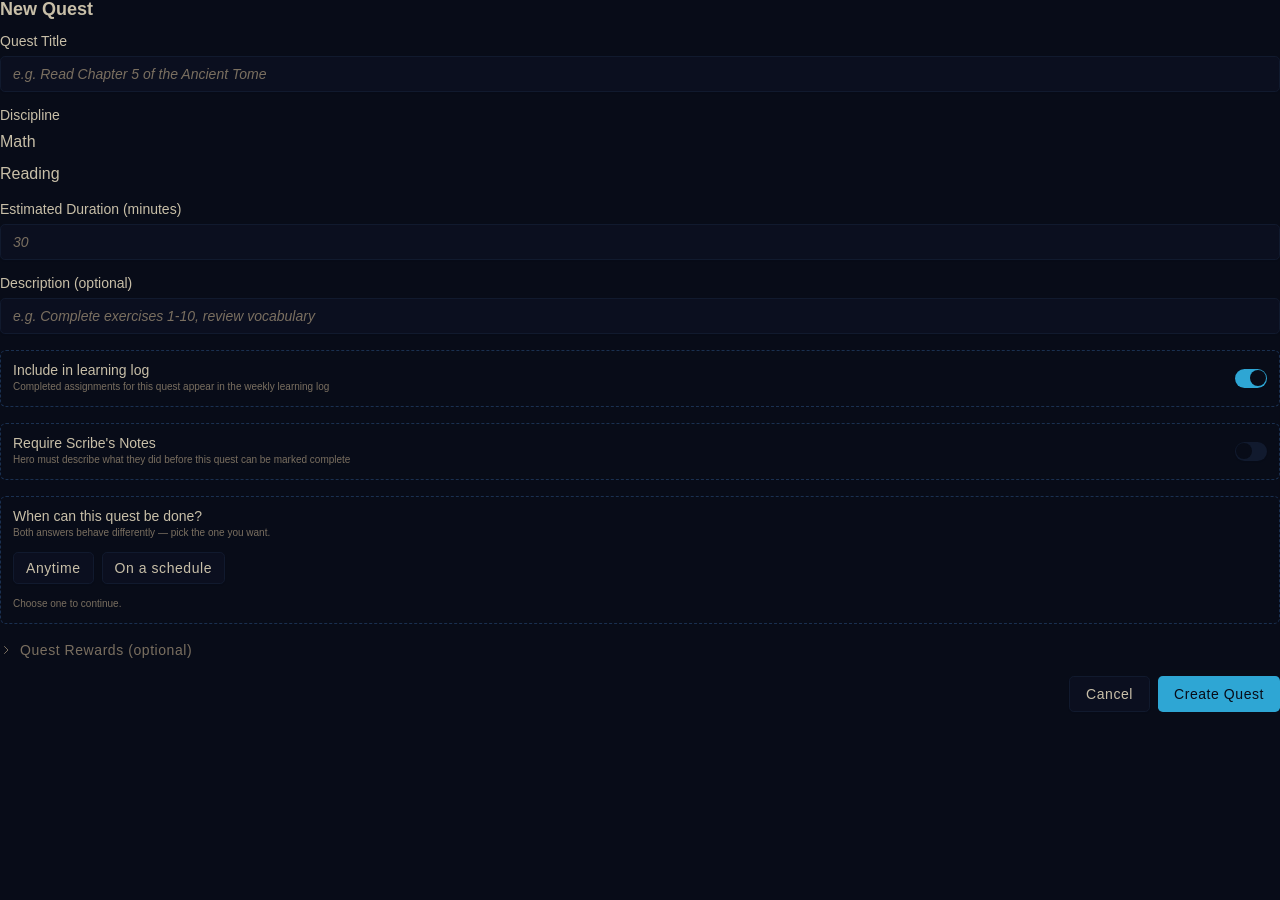
QuestTemplateForm › shows Once, Daily, Weekly, and Monthly frequency options with an interval input for Weekly
Click the button "On a schedule" at (163,568), box [102, 552, 225, 584]
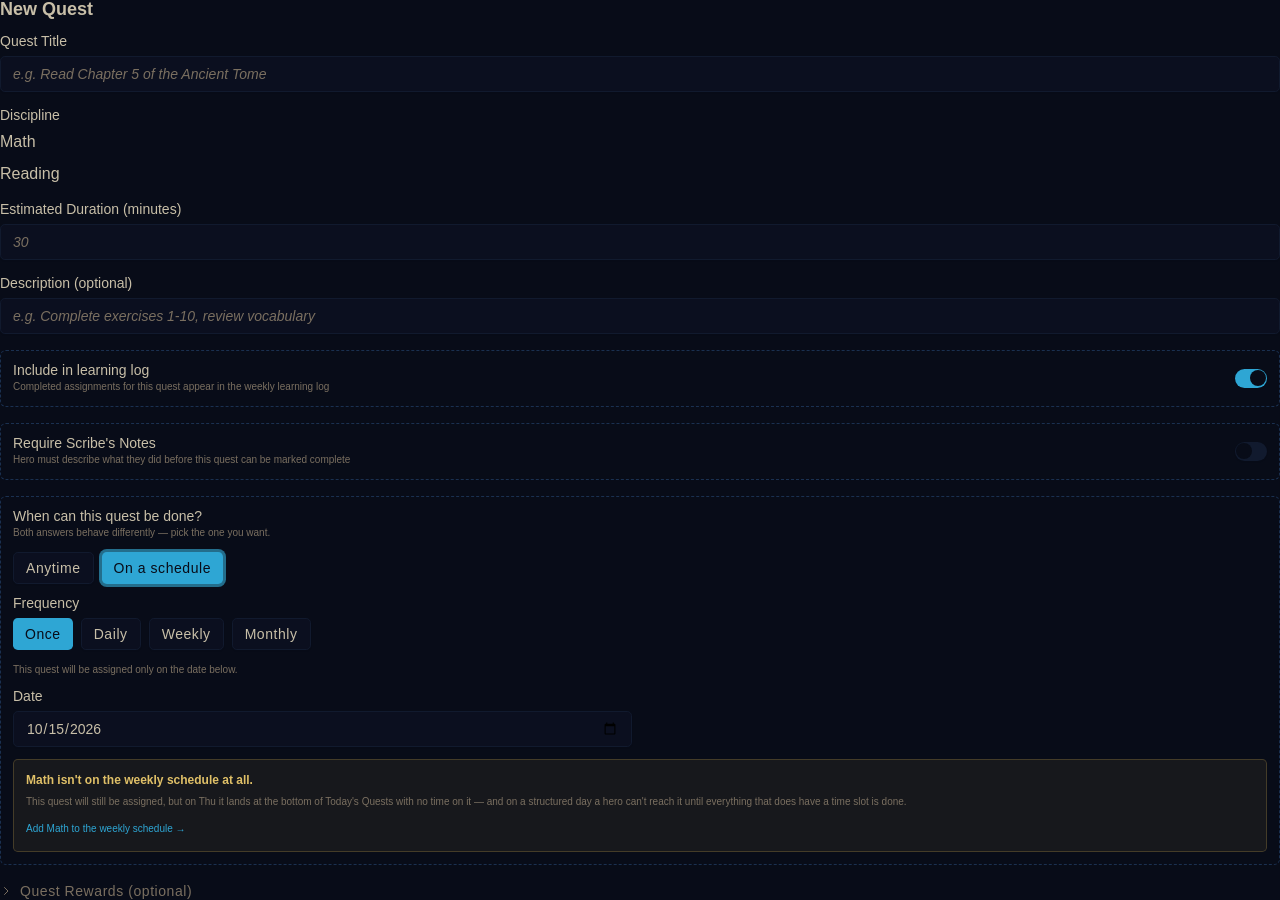
expect the button "Once" is shown: met, box [13, 618, 73, 650]
expect the button "Daily" is shown: met, box [81, 618, 141, 650]
expect the button "Weekly" is shown: met
// Scheduling opens on "Once", so the weekly interval only appears once Weekly is picked.
Click the button "Weekly" at (186,634), box [149, 618, 224, 650]
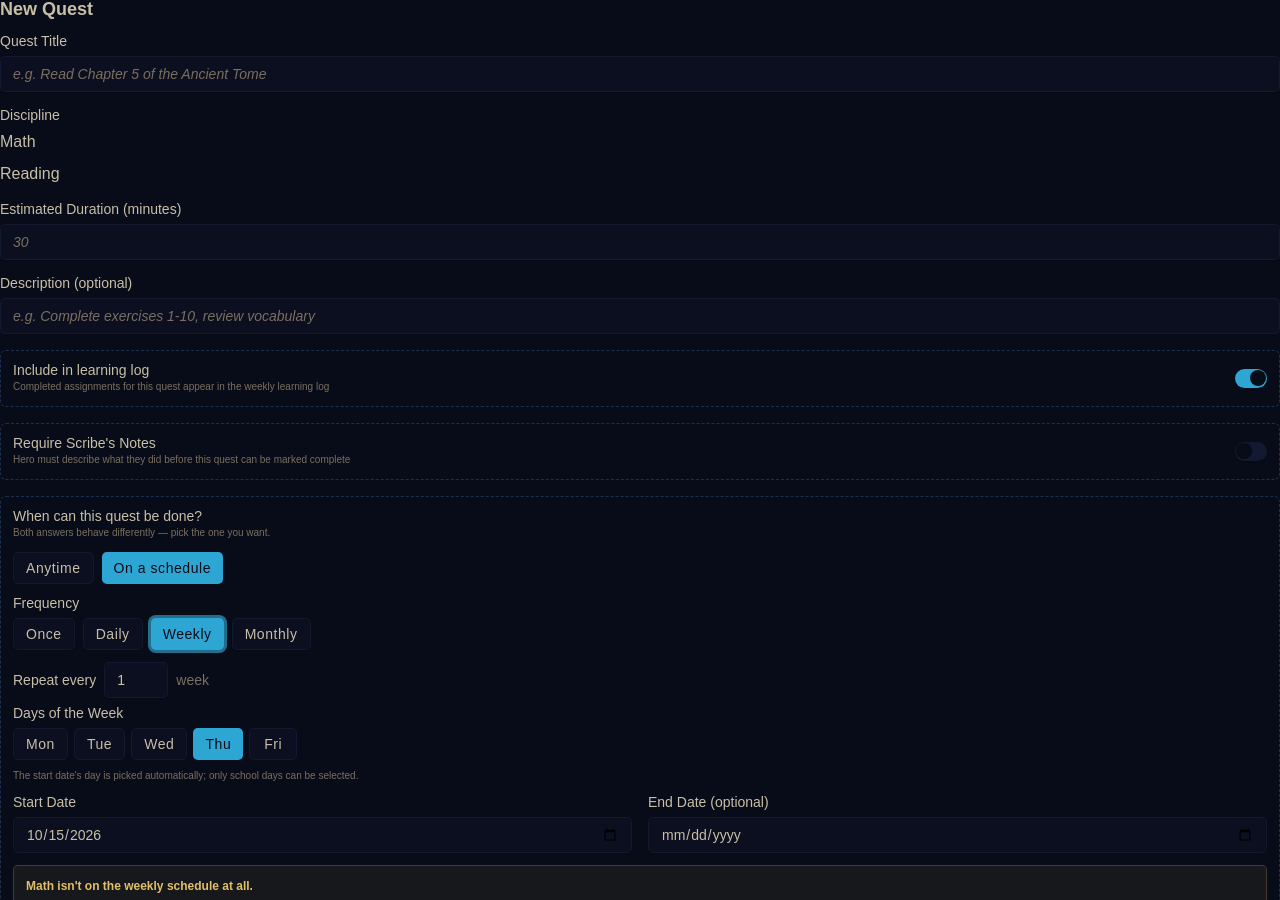
expect the number field labelled "Repeat every" is shown: met, box [104, 662, 168, 698]
Click the button "Monthly" at (271,634), box [232, 618, 311, 650]
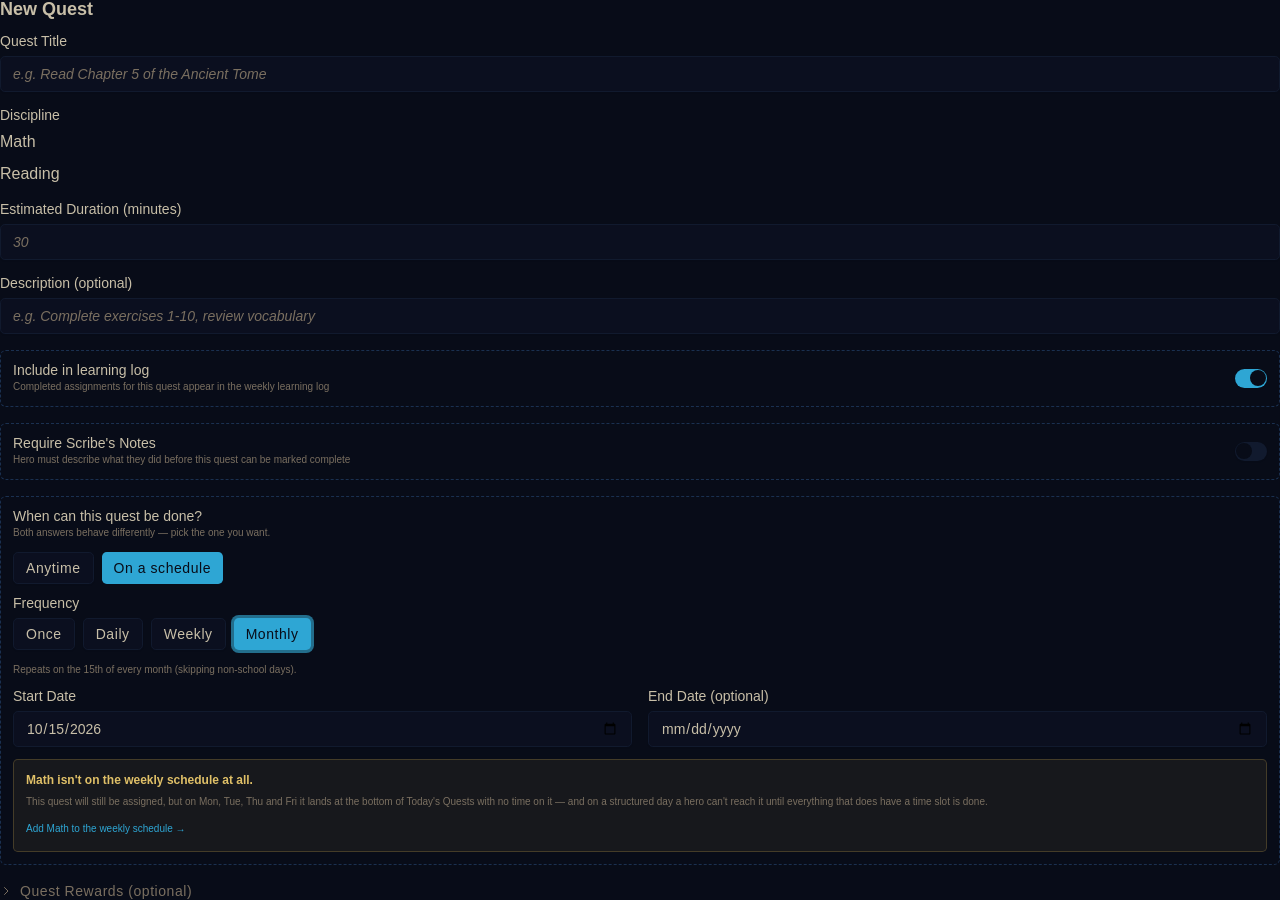
expect the label labelled "Repeat every" is gone: met
